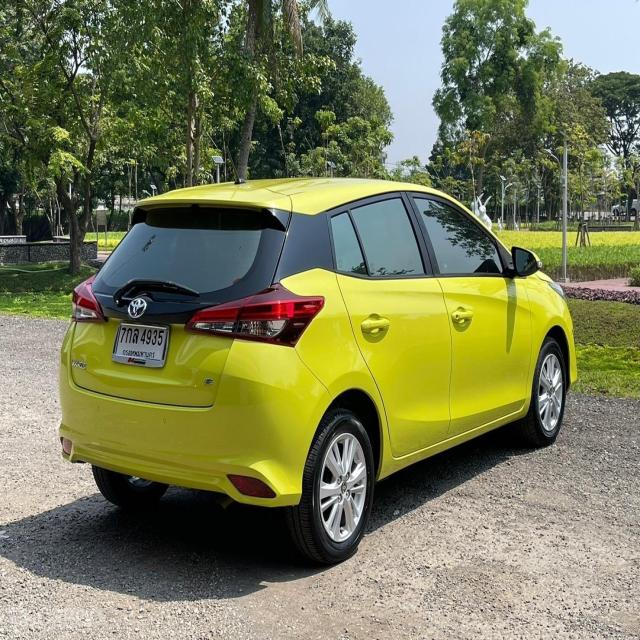license_plate: (111, 322, 172, 372)
